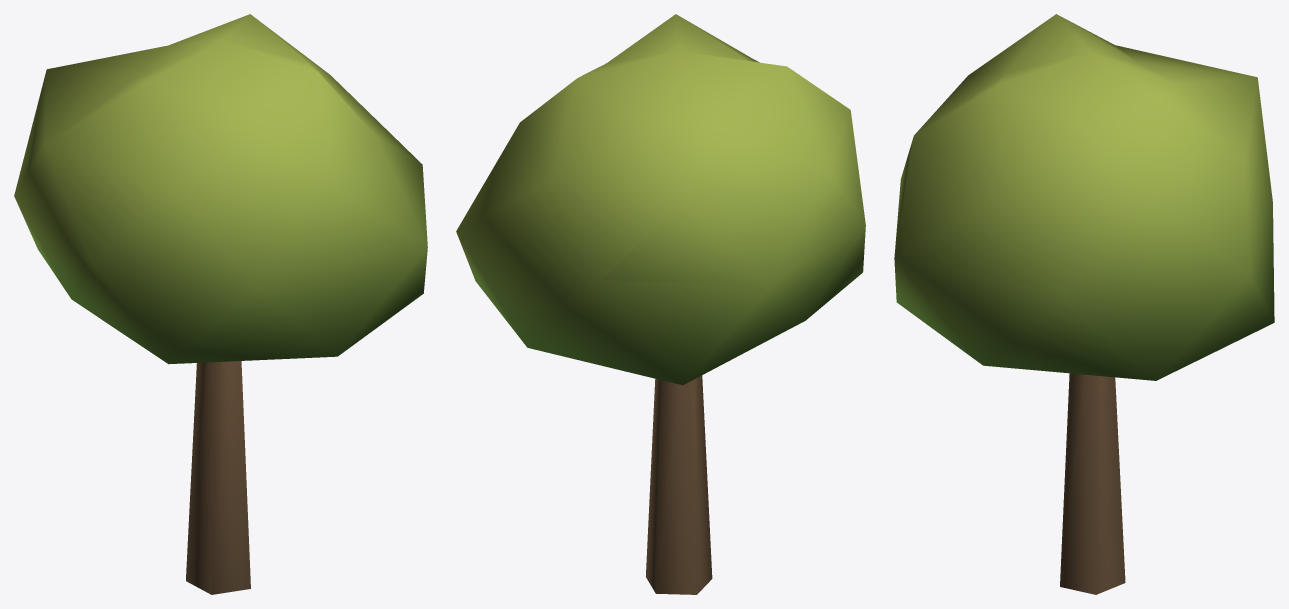
Rendered from prop_tree_c.glb.
The picture shows the model from 3 angles, left to right: view 1: azimuth 30°, elevation 25°; view 2: azimuth 150°, elevation 25°; view 3: azimuth 270°, elevation 25°; orthographic projection. The views are drawn at different scales.
Visible parts, largest first — view 1: prop_tree_c; view 2: prop_tree_c; view 3: prop_tree_c.
Part boxes in pixels (x1,y1,x2,y2): prop_tree_c: (14,14,427,594); prop_tree_c: (456,14,865,594); prop_tree_c: (894,14,1274,594).
Bounding box in the file's own units: 0.9699 × 1.42 × 0.9273.
